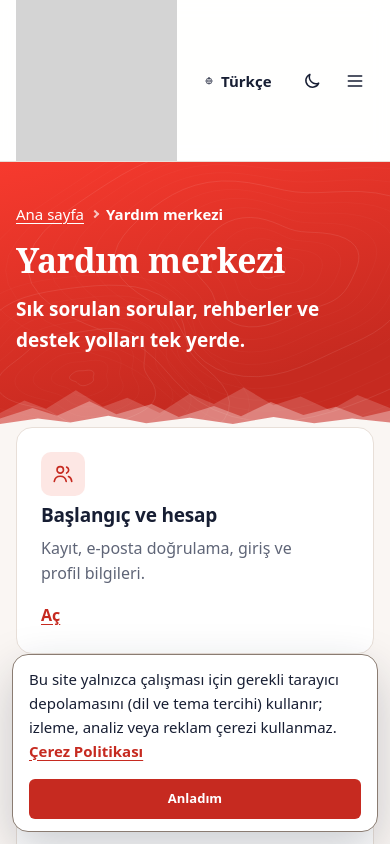
Scenario: erişilebilirlik temel kontrolleri › hamburger düğmesi menüyü açar ve aria-expanded günceller
Click the button named "Menüyü aç": (354, 80) x1=335 y1=60 x2=374 y2=102
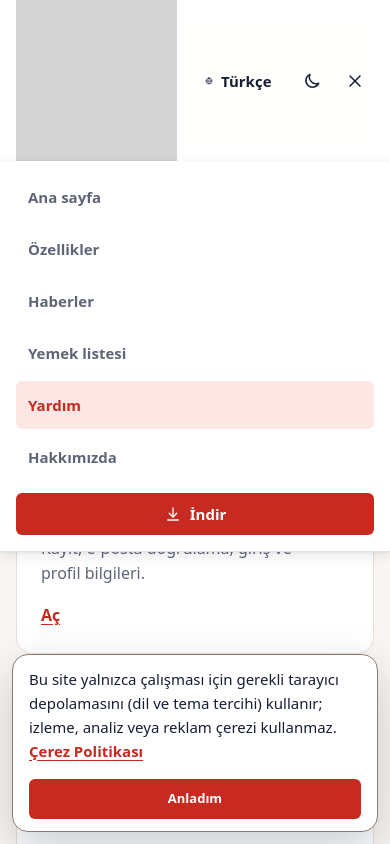
Check: the button named "Menüyü kapat" is expanded, box x1=335 y1=60 x2=374 y2=102
